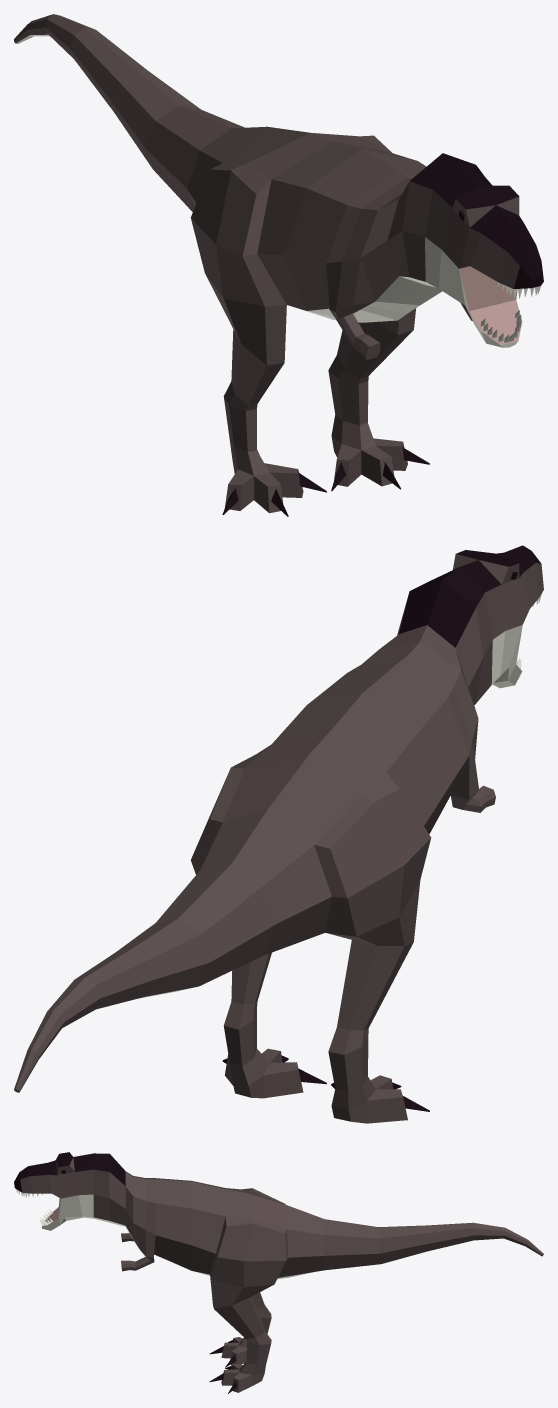
Rendered from dinosaur.obj.
The picture shows the model from 3 angles, top to bottom: view 1: azimuth 30°, elevation 25°; view 2: azimuth 150°, elevation 25°; view 3: azimuth 270°, elevation 25°; orthographic projection. The views are drawn at different scales.
Visible parts, largest first — view 1: Geo_Dinosaur; view 2: Geo_Dinosaur; view 3: Geo_Dinosaur.
Part boxes in pixels (<box>): Geo_Dinosaur: <box>14,14,543,516</box>; Geo_Dinosaur: <box>14,545,543,1123</box>; Geo_Dinosaur: <box>14,1152,543,1393</box>.
Bounding box in the file's own units: 125 × 245 × 542.
Materials: 1 (1 with a texture image).
